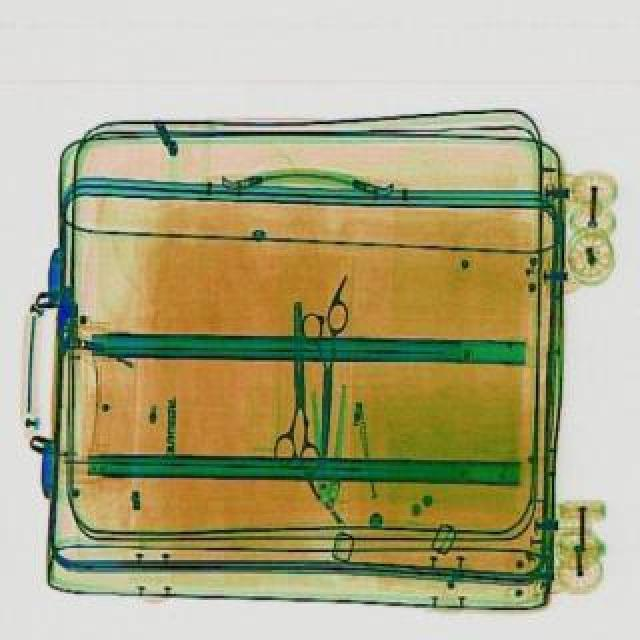pliers: (272, 302, 320, 472), (298, 300, 350, 456)
